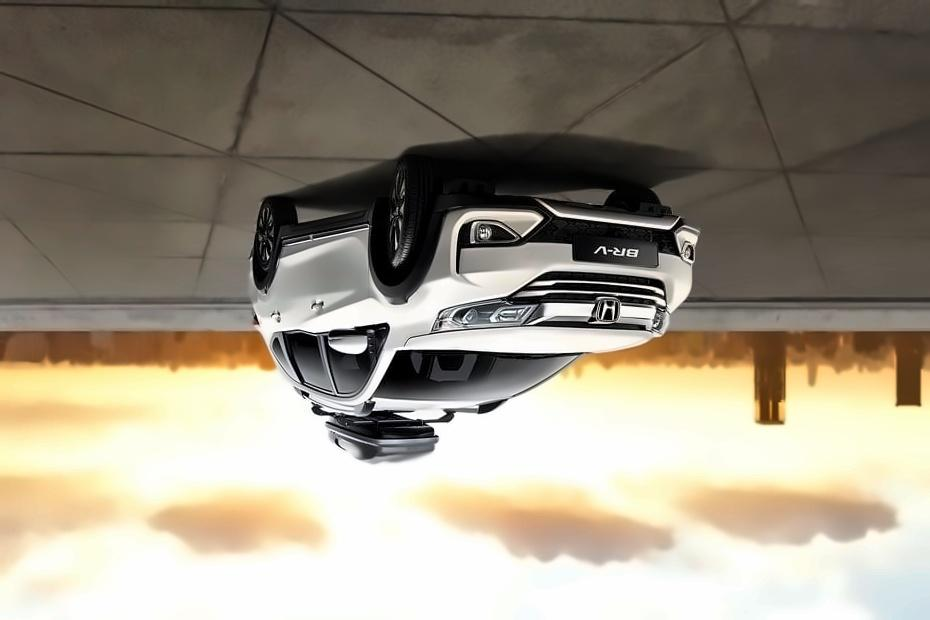Car hood: (398, 321, 665, 352)
Fender - -F-L-: (352, 210, 460, 332)
Front bumper: (436, 194, 701, 294)
Headlight - -L-: (412, 274, 549, 336)
Headlight - -R-: (644, 282, 683, 352)
Passenger-s door - -F-L-: (316, 229, 392, 410)
Passenger-s door - -R-L-: (272, 242, 347, 385)
Side bumper - -L-: (262, 202, 392, 249)
Side mirror - -L-: (316, 316, 385, 363)
